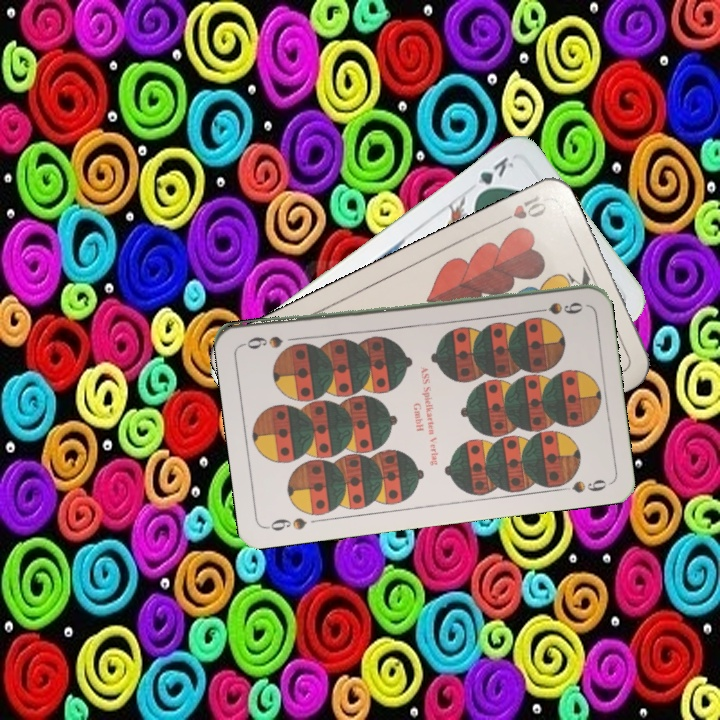GK: (471, 153, 517, 200)
H10: (493, 190, 549, 227)
S9: (527, 298, 584, 316), (262, 514, 309, 534)
